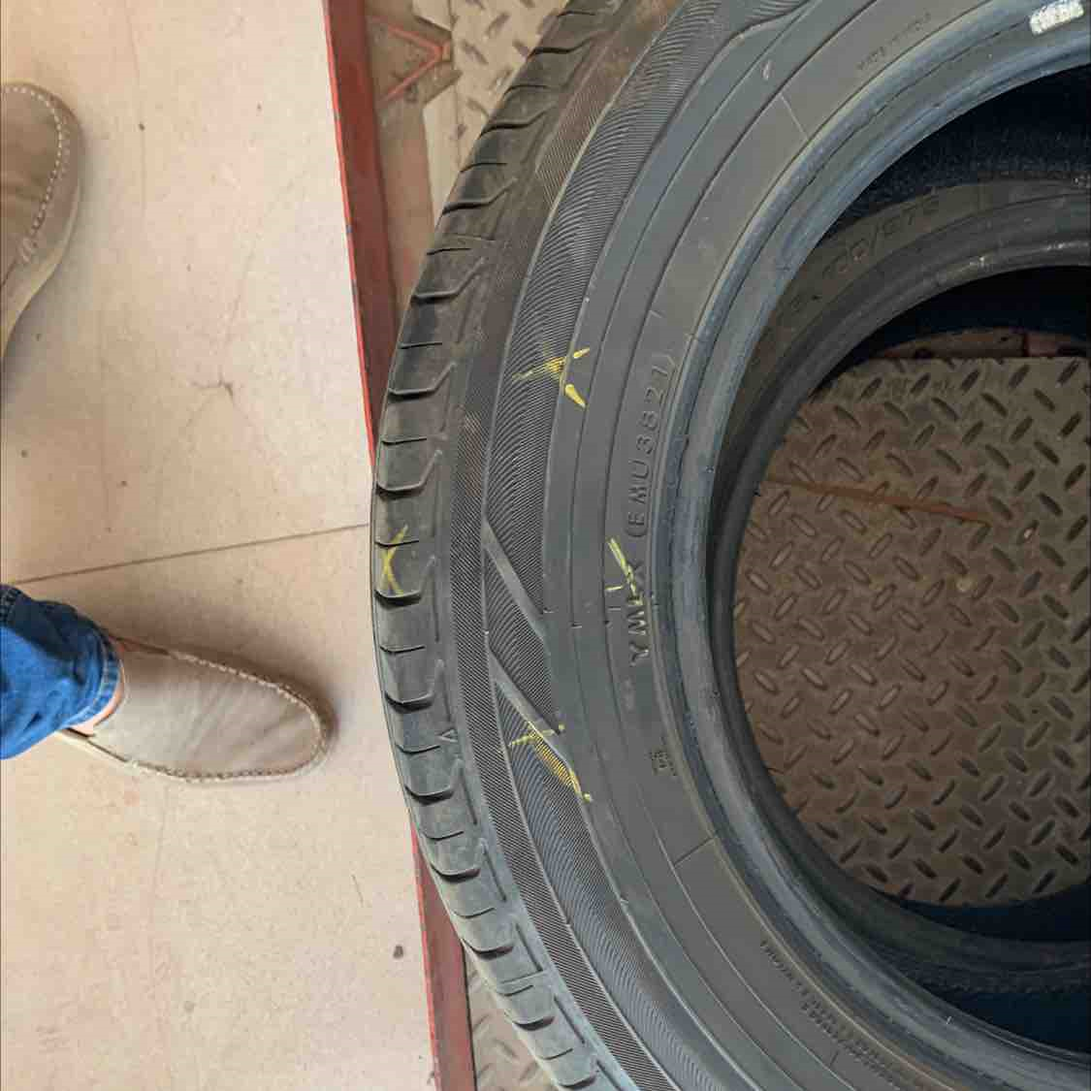CBU: (406, 393, 632, 729)
